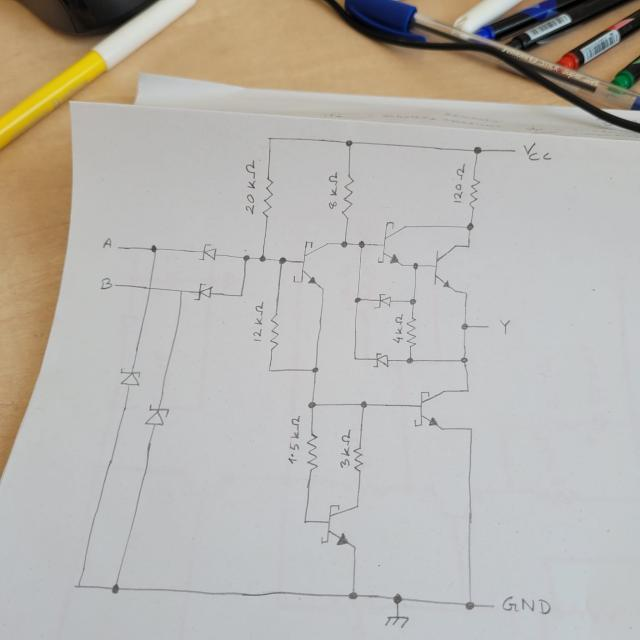crossover: (145, 284, 153, 292)
diode: (142, 403, 170, 428), (117, 367, 142, 388), (192, 282, 214, 301), (198, 244, 218, 262), (372, 292, 393, 309), (372, 352, 391, 369)
ground: (382, 614, 410, 629)
junction: (389, 592, 404, 606), (108, 582, 122, 596), (463, 599, 477, 611), (347, 590, 360, 602), (471, 144, 483, 156), (464, 425, 476, 436), (240, 252, 251, 262), (307, 400, 318, 410), (73, 580, 83, 591), (277, 256, 287, 266), (344, 138, 354, 148), (148, 244, 158, 254), (408, 296, 418, 306), (358, 400, 368, 409), (257, 254, 267, 263), (460, 322, 470, 331), (339, 239, 349, 248), (357, 240, 366, 249), (353, 295, 362, 304), (405, 355, 414, 364), (465, 222, 474, 231), (310, 366, 319, 374), (265, 134, 273, 143), (460, 356, 468, 364), (464, 386, 471, 394), (176, 287, 183, 294), (412, 262, 418, 270), (301, 518, 308, 524), (237, 292, 244, 298), (352, 355, 358, 361), (266, 367, 272, 373), (464, 244, 470, 250), (462, 291, 468, 296)
resistor: (340, 172, 355, 220), (261, 174, 275, 218), (305, 431, 319, 472), (466, 174, 482, 209), (267, 312, 281, 351), (405, 314, 417, 348), (352, 444, 364, 473)
terminal: (484, 601, 496, 610), (511, 146, 518, 154), (484, 324, 491, 331), (116, 245, 121, 250), (113, 283, 117, 287)
text: (502, 595, 553, 615), (450, 162, 468, 203), (287, 415, 301, 465), (244, 160, 256, 216), (523, 141, 552, 161), (338, 427, 352, 468), (325, 172, 338, 210), (252, 302, 264, 342), (392, 313, 404, 344), (499, 316, 511, 336), (100, 277, 112, 290), (101, 237, 113, 249)
transistor: (318, 501, 359, 552), (293, 240, 329, 290), (413, 389, 447, 432), (375, 221, 406, 268), (429, 244, 458, 294)
